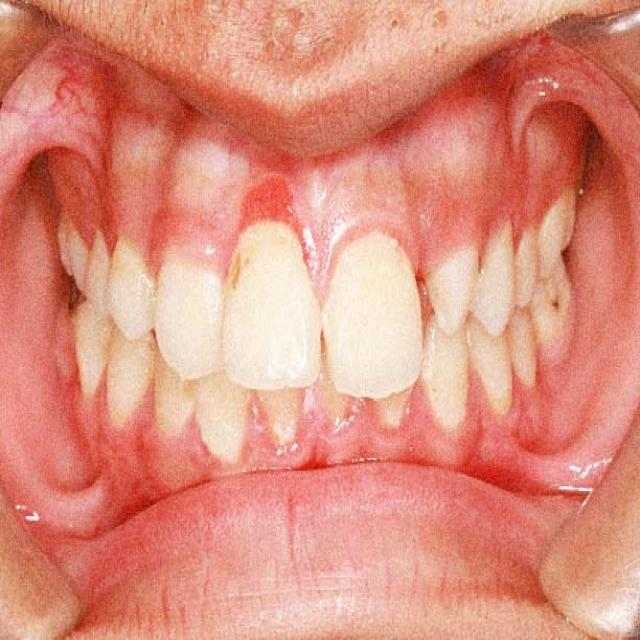caries: (536, 272, 568, 328)
